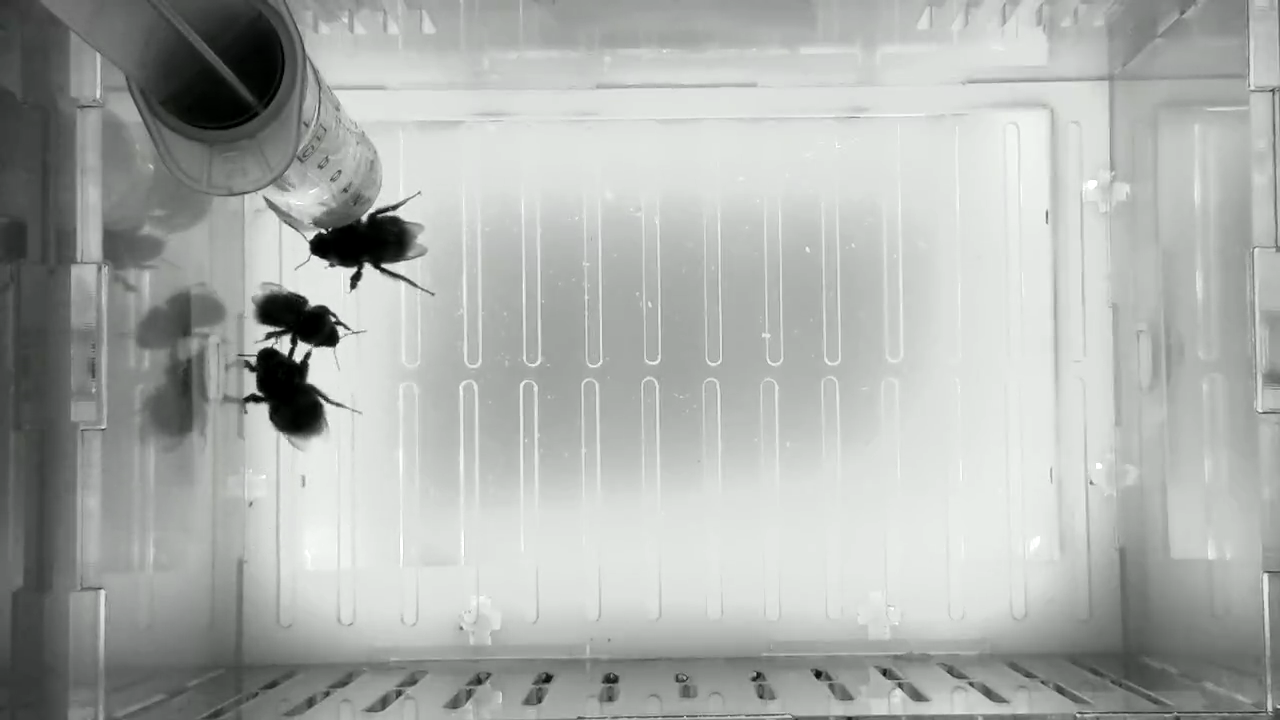bee_alive: (280, 189, 443, 299), (235, 329, 367, 457), (249, 279, 370, 374)
feeder: (260, 68, 382, 235)
